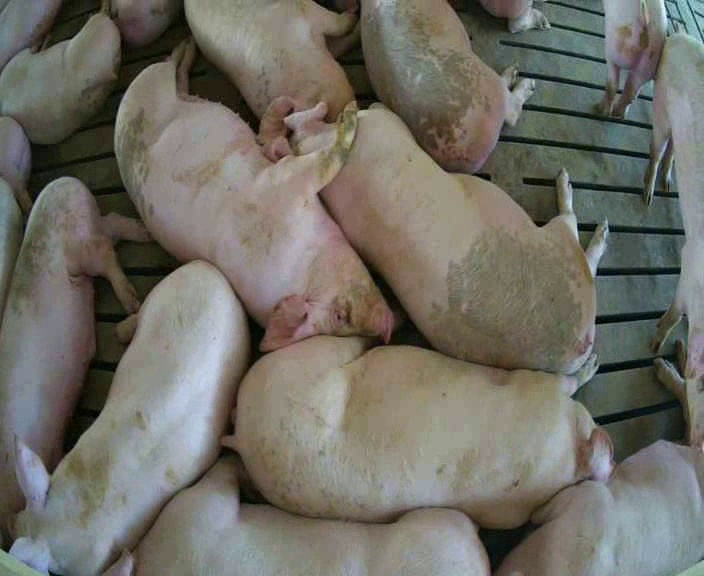pig: (115, 42, 392, 350), (225, 336, 612, 527), (11, 261, 248, 572), (0, 177, 146, 543), (499, 341, 703, 574), (100, 456, 489, 575), (362, 2, 533, 172), (643, 33, 703, 447), (185, 2, 359, 143), (0, 0, 120, 143), (600, 1, 666, 117), (0, 1, 61, 70), (109, 1, 181, 46)
